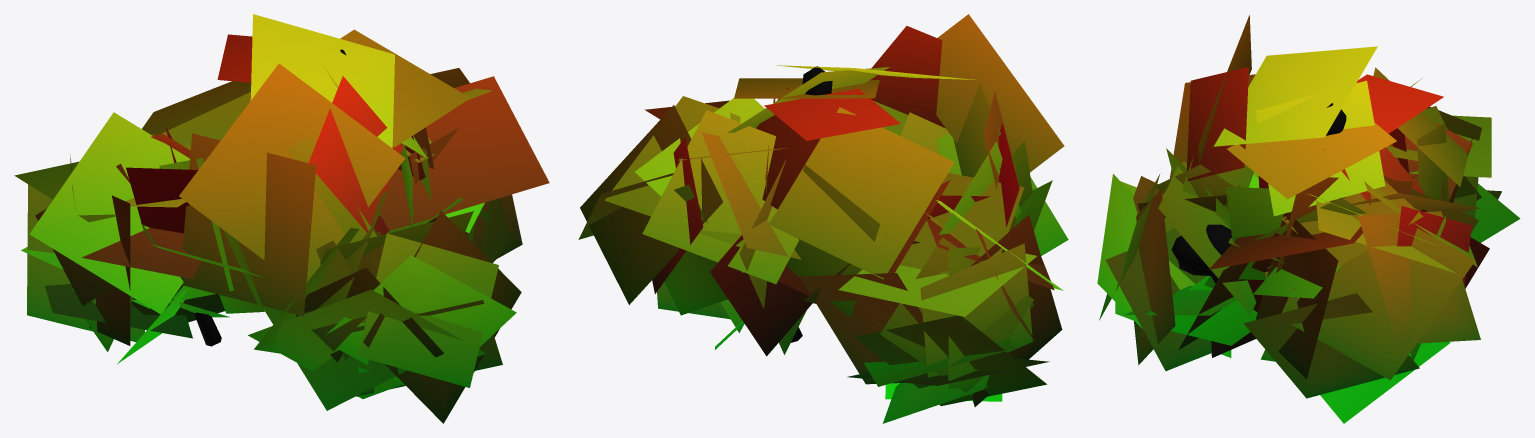
Rendered from env_bush_bg_b.fbx.
The picture shows the model from 3 angles, left to right: view 1: azimuth 30°, elevation 25°; view 2: azimuth 150°, elevation 25°; view 3: azimuth 270°, elevation 25°; orthographic projection. The views are drawn at different scales.
Parts seen in each view (by area): view 1: env_bush_bg_b; view 2: env_bush_bg_b; view 3: env_bush_bg_b.
Boxes of the visible parts, x1,y1,x2,y2 form: env_bush_bg_b: [14, 14, 549, 423]; env_bush_bg_b: [578, 14, 1068, 423]; env_bush_bg_b: [1097, 15, 1520, 423].
Size of the model in its own units: 3.13 by 2.15 by 2.59.
